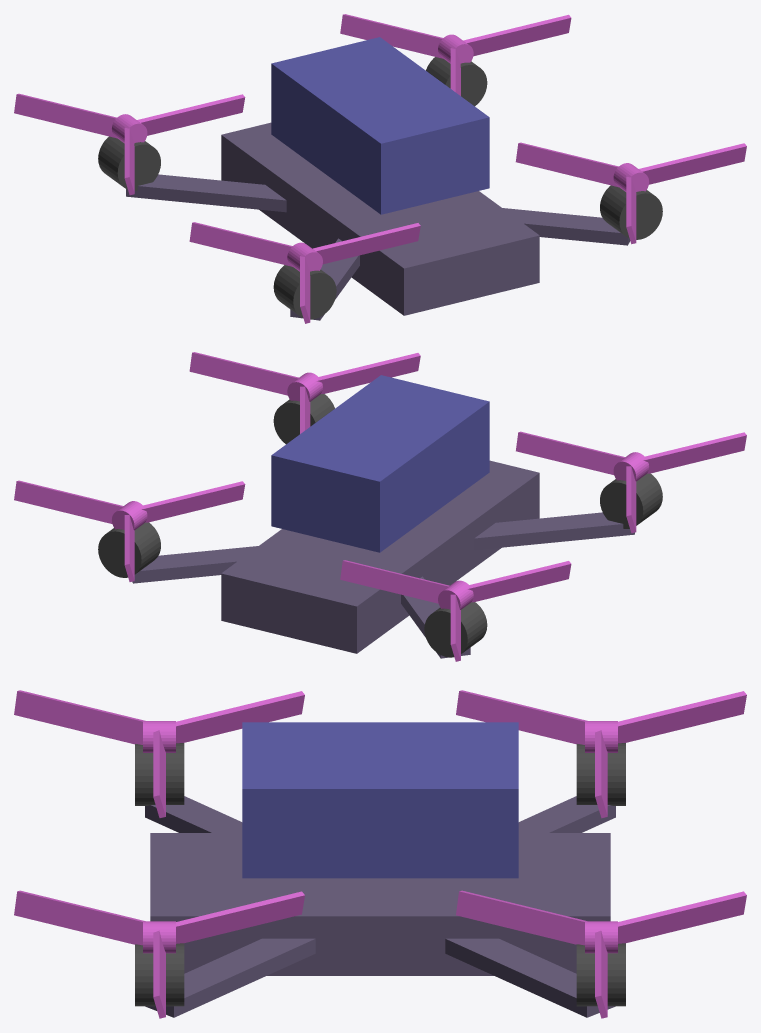
File: AstroX SL5.glb
3 renders of one model, top to bottom at view 1: azimuth 30°, elevation 25°; view 2: azimuth 150°, elevation 25°; view 3: azimuth 270°, elevation 25°, orthographic. The views are drawn at different scales.
Parts seen in each view (by area): view 1: battery, frame_body, prop_0, prop_2, prop_3, prop_1, arm_3, arm_0, motor_0, motor_2, motor_3, motor_1 (+1 smaller); view 2: battery, frame_body, prop_2, prop_1, prop_3, prop_0, arm_2, arm_1, motor_1, motor_3, motor_2, motor_0 (+1 smaller); view 3: battery, frame_body, prop_1, prop_0, prop_2, prop_3, arm_1, arm_0, motor_1, motor_0, arm_3, motor_3 (+2 smaller).
Boxes of the visible parts, bbox=[...] form: battery: bbox=[271, 37, 489, 214]; frame_body: bbox=[221, 122, 539, 315]; prop_0: bbox=[515, 142, 746, 244]; prop_2: bbox=[189, 222, 420, 323]; prop_3: bbox=[14, 93, 245, 195]; prop_1: bbox=[340, 14, 571, 95]; arm_3: bbox=[126, 174, 286, 212]; arm_0: bbox=[502, 208, 630, 245]; motor_0: bbox=[600, 185, 662, 239]; motor_2: bbox=[273, 265, 336, 319]; motor_3: bbox=[98, 136, 160, 190]; motor_1: bbox=[426, 57, 487, 106]; battery: bbox=[271, 375, 489, 552]; frame_body: bbox=[221, 460, 539, 653]; prop_2: bbox=[516, 431, 746, 533]; prop_1: bbox=[14, 480, 245, 581]; prop_3: bbox=[340, 560, 571, 661]; prop_0: bbox=[189, 352, 420, 433]; arm_2: bbox=[474, 512, 634, 550]; arm_1: bbox=[132, 546, 258, 583]; motor_1: bbox=[98, 522, 160, 577]; motor_3: bbox=[424, 602, 487, 657]; motor_2: bbox=[600, 473, 662, 528]; motor_0: bbox=[273, 394, 334, 444]; battery: bbox=[242, 722, 518, 878]; frame_body: bbox=[150, 833, 610, 975]; prop_1: bbox=[456, 890, 746, 1018]; prop_0: bbox=[14, 890, 304, 1018]; prop_2: bbox=[14, 690, 304, 817]; prop_3: bbox=[456, 690, 746, 818]; arm_1: bbox=[445, 938, 615, 1017]; arm_0: bbox=[145, 938, 315, 1017]; motor_1: bbox=[576, 943, 625, 1006]; motor_0: bbox=[135, 943, 184, 1006]; arm_3: bbox=[518, 796, 615, 832]; motor_3: bbox=[576, 743, 625, 805].
Size of the model in its own units: 0.2209 by 0.06 by 0.2229.
